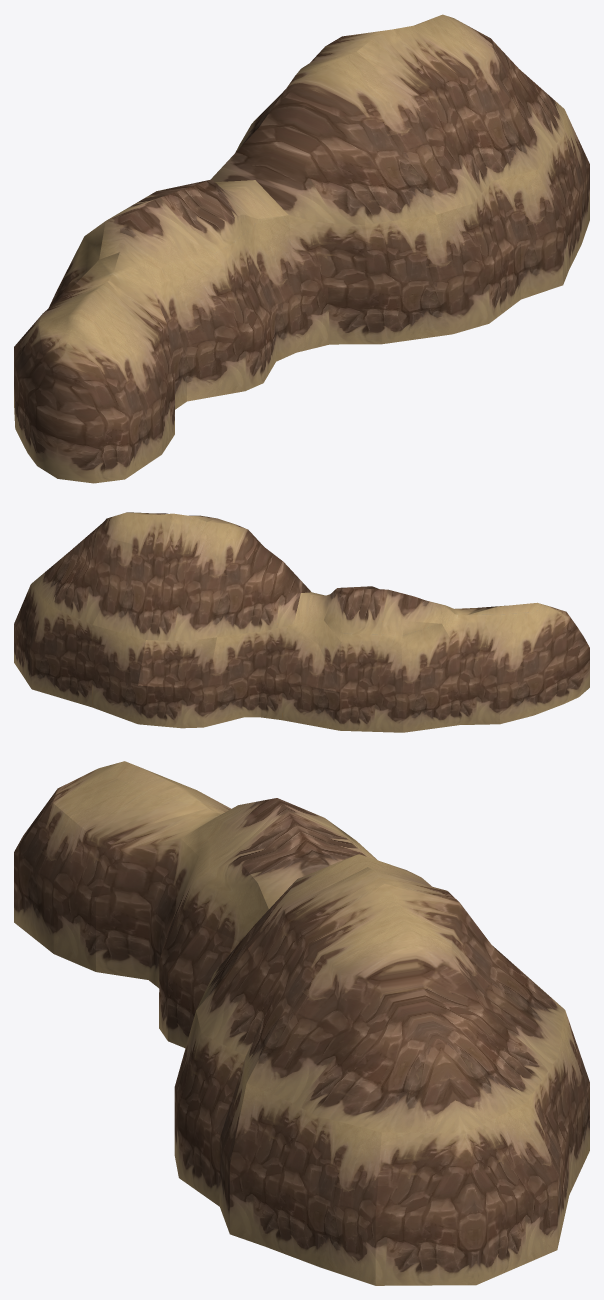
File: FB5_dashati_10.FBX
3 views of the same model, one above another, from view 1: azimuth 30°, elevation 25°; view 2: azimuth 150°, elevation 25°; view 3: azimuth 270°, elevation 25° (orthographic). The views are drawn at different scales.
Visible parts, largest first — view 1: FB5_dashati_10; view 2: FB5_dashati_10; view 3: FB5_dashati_10.
Part boxes in pixels (box(x1,y1,x2,y2)): FB5_dashati_10: box(14, 14, 589, 483); FB5_dashati_10: box(14, 512, 589, 732); FB5_dashati_10: box(14, 761, 589, 1285).
Size of the model in its own units: 16858 by 5719 by 10377.
1 material, 1 textured.
